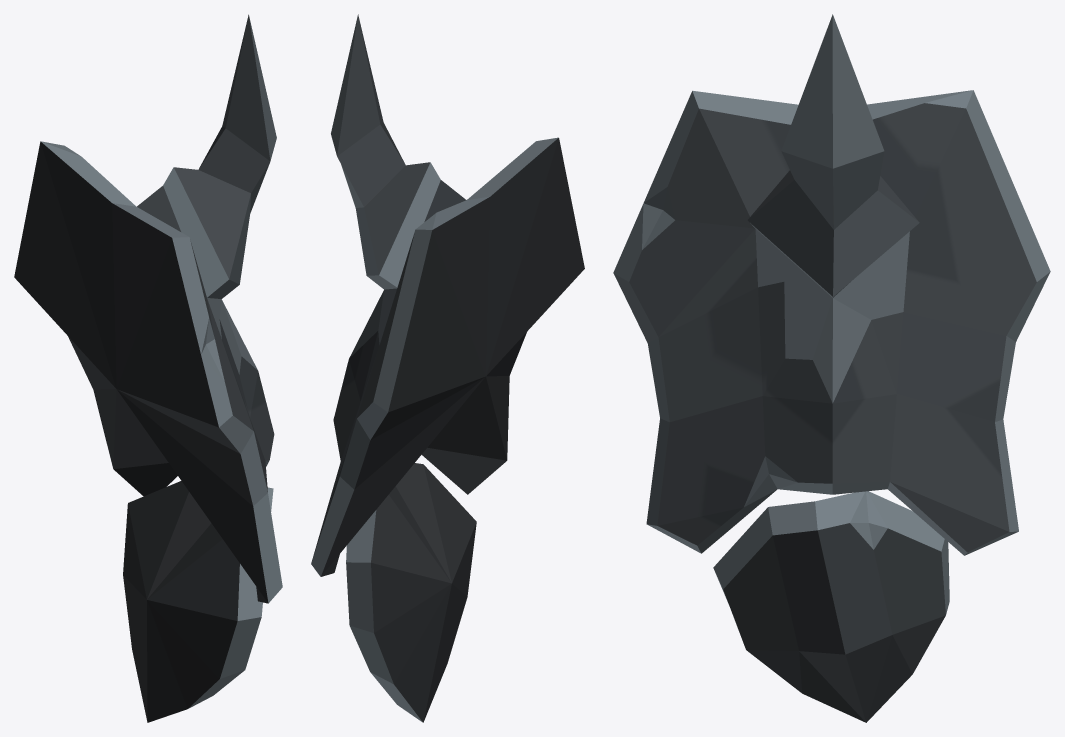
File: SM_Chr_Attach_Armour_Dark_Leg_RL_Small_01.fbx
3 renders of one model, left to right at view 1: azimuth 30°, elevation 25°; view 2: azimuth 150°, elevation 25°; view 3: azimuth 270°, elevation 25°, orthographic. The views are drawn at different scales.
Parts seen in each view (by area): view 1: SM_Chr_Attach_Armour_Dark_Leg_RL_Small_01; view 2: SM_Chr_Attach_Armour_Dark_Leg_RL_Small_01; view 3: SM_Chr_Attach_Armour_Dark_Leg_RL_Small_01.
Part boxes in pixels (left/top/right/bottom): SM_Chr_Attach_Armour_Dark_Leg_RL_Small_01: left=14, top=14, right=282, bottom=722; SM_Chr_Attach_Armour_Dark_Leg_RL_Small_01: left=311, top=14, right=584, bottom=722; SM_Chr_Attach_Armour_Dark_Leg_RL_Small_01: left=613, top=14, right=1050, bottom=722.
Bounding box in the file's own units: 9.72 × 38.1 × 20.14.
